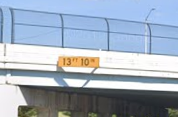0: (83, 58, 91, 66)
1: (80, 57, 85, 67), (61, 57, 66, 66)
3: (65, 57, 73, 67)
overheadsign: (57, 55, 99, 67)
